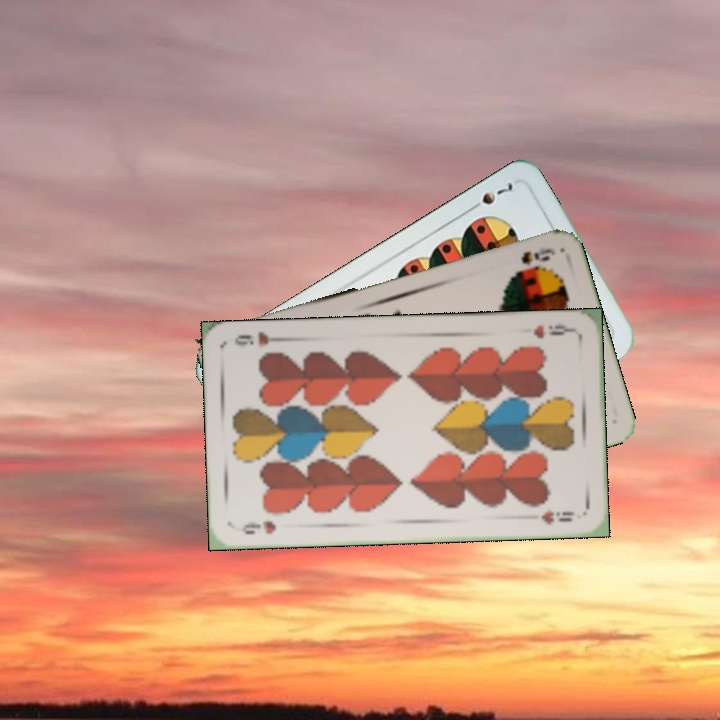H9: (530, 320, 576, 341), (237, 517, 278, 537)
S7: (464, 178, 516, 214)
SO: (517, 243, 557, 268)
